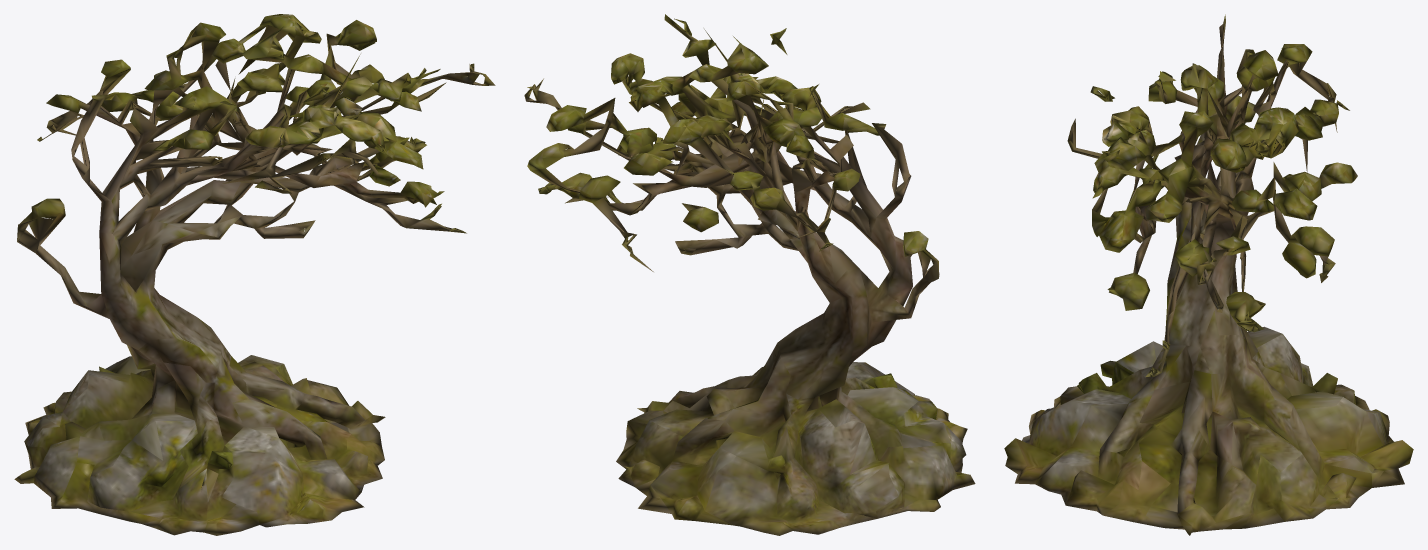
File: land_hawthorn.obj
3 renders of one model, left to right at view 1: azimuth 30°, elevation 25°; view 2: azimuth 150°, elevation 25°; view 3: azimuth 270°, elevation 25°, orthographic. The views are drawn at different scales.
Parts seen in each view (by area): view 1: land_hawthorn; view 2: land_hawthorn; view 3: land_hawthorn.
Boxes of the visible parts, box(x1,y1,x2,y2) form: land_hawthorn: box(14, 14, 495, 535); land_hawthorn: box(524, 14, 975, 535); land_hawthorn: box(1004, 14, 1413, 535).
Size of the model in its own units: 5.59 by 4.88 by 4.25.
Materials: 1 (1 with a texture image).
